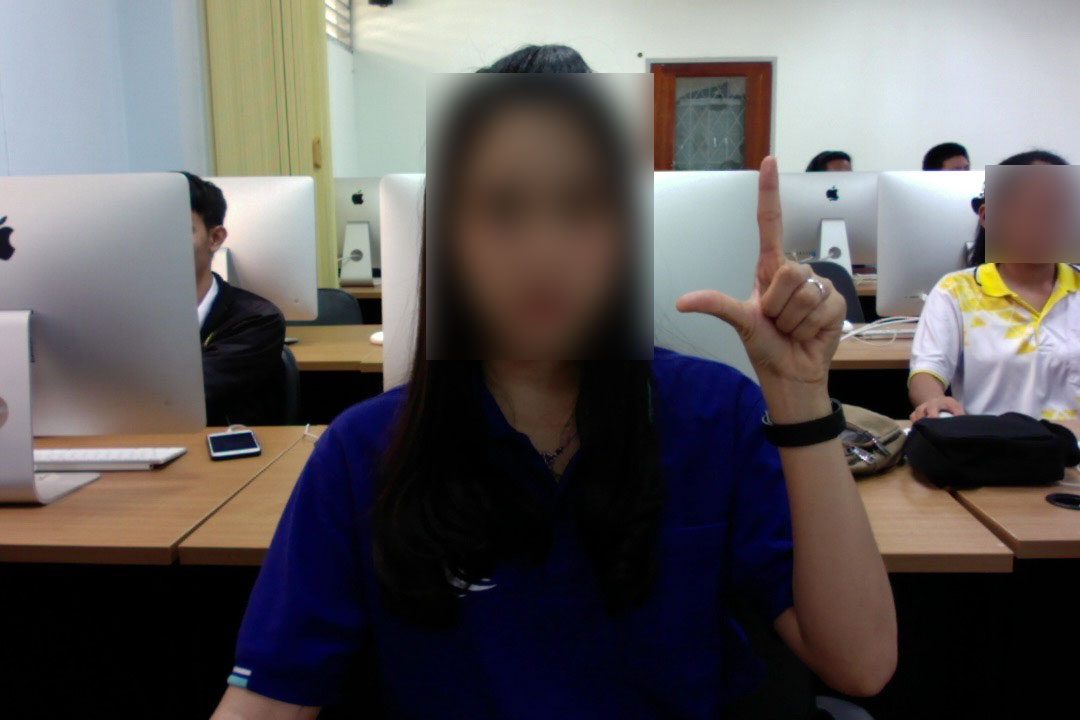lor: (669, 148, 873, 403)
